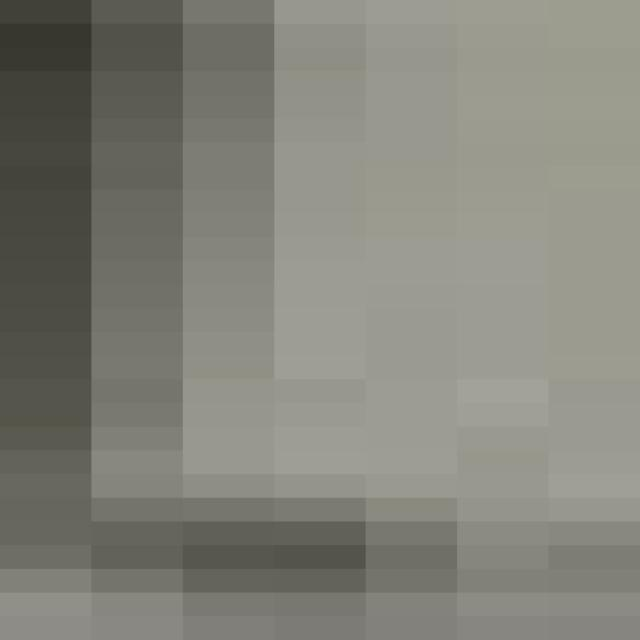.: (48, 472, 632, 624)
